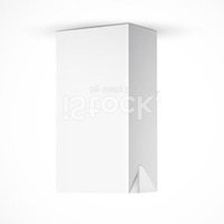carton: (46, 18, 166, 203)
